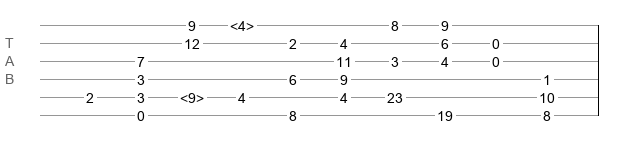0: (137, 108, 145, 118), (492, 54, 500, 64), (492, 36, 500, 46)
1: (543, 72, 551, 82)
10: (539, 90, 555, 100)
11: (336, 54, 352, 64)
12: (184, 36, 200, 46)
19: (437, 108, 453, 118)
2: (86, 90, 94, 100), (289, 36, 297, 46)
23: (387, 90, 403, 100)
3: (137, 72, 145, 82), (137, 90, 145, 100), (391, 54, 399, 64)
4: (238, 90, 246, 100), (340, 36, 348, 46), (340, 90, 348, 100), (441, 54, 449, 64)
6: (289, 72, 297, 82), (441, 36, 449, 46)
7: (137, 54, 145, 64)
8: (289, 108, 297, 118), (391, 18, 399, 28), (543, 108, 551, 118)
9: (188, 18, 196, 28), (340, 72, 348, 82), (441, 18, 449, 28)
harmonic: (180, 90, 204, 100), (230, 18, 254, 28)
